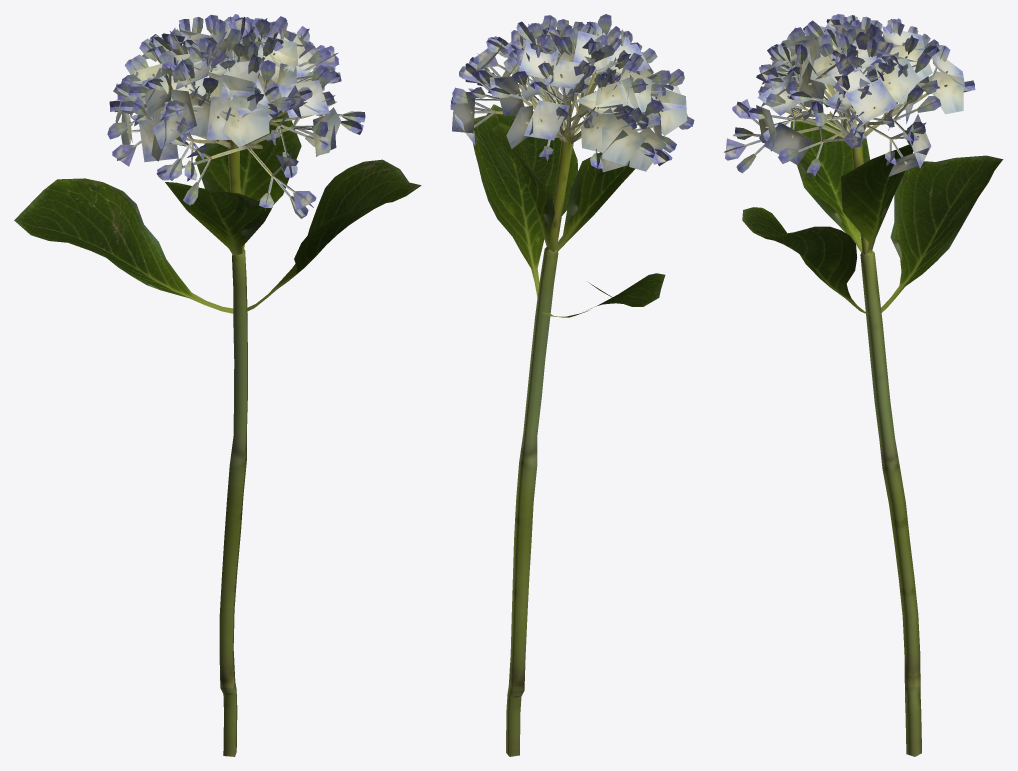
File: Hydrangea_baby_short_purple.glb
3 renders of one model, left to right at view 1: azimuth 30°, elevation 25°; view 2: azimuth 150°, elevation 25°; view 3: azimuth 270°, elevation 25°, orthographic. The views are drawn at different scales.
Visible parts, largest first — view 1: BABY; view 2: BABY; view 3: BABY.
Part boxes in pixels (box(x1,y1,x2,y2)): BABY: box(14, 14, 421, 756); BABY: box(450, 14, 694, 756); BABY: box(724, 14, 1003, 756).
Size of the model in its own units: 0.7928 by 2.03 by 0.7195.
1 material, 1 textured.
